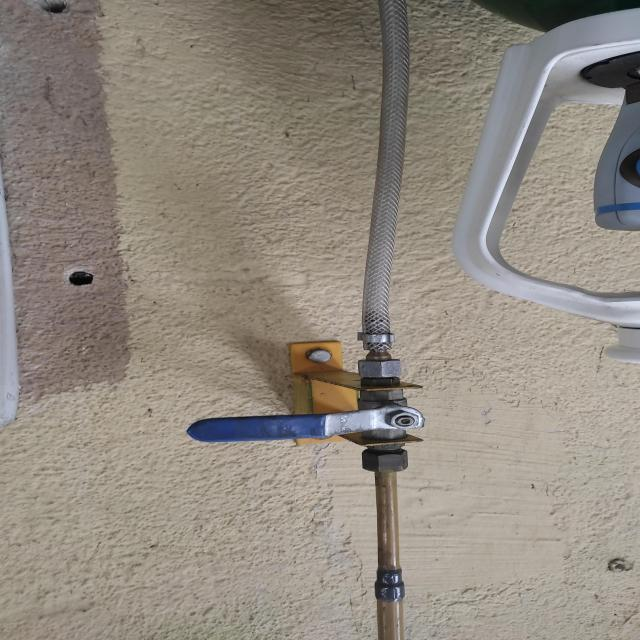closed_valve: (186, 385, 431, 454)
